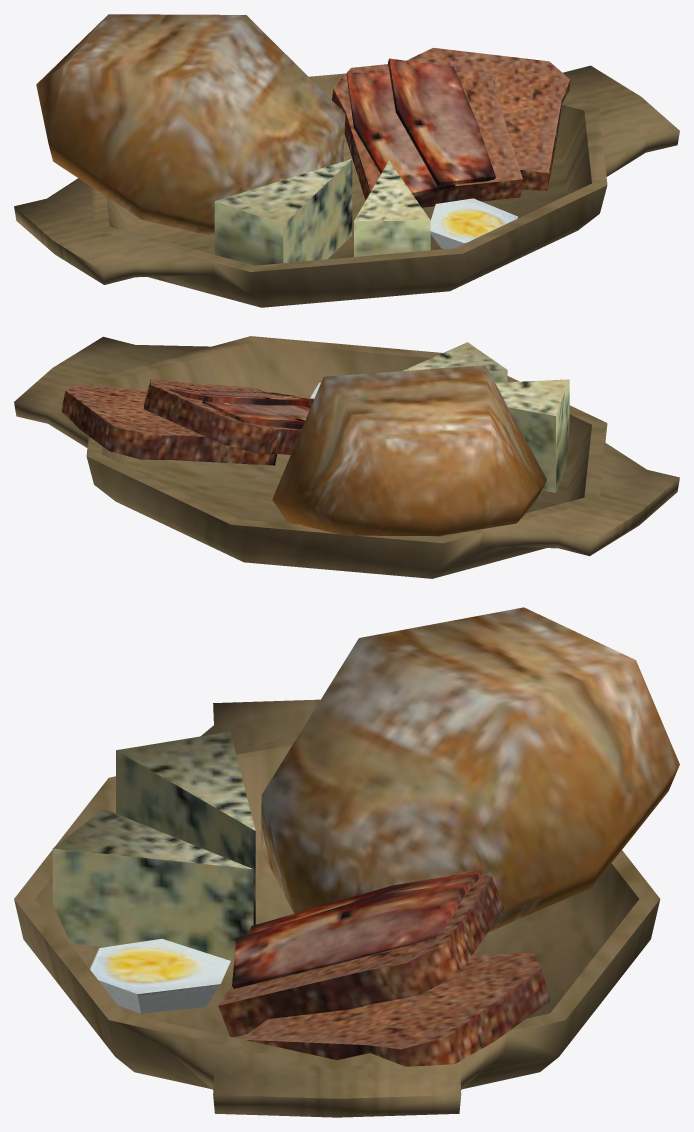
File: platter-meal02.glb
The picture shows the model from 3 angles, top to bottom: view 1: azimuth 30°, elevation 25°; view 2: azimuth 150°, elevation 25°; view 3: azimuth 270°, elevation 25°; orthographic projection. The views are drawn at different scales.
Parts seen in each view (by area): view 1: food-bread01.001, platter03, cheese, bacon.001, bread-slice.001, bread-slice, bacon, cheese.001, egg-half; view 2: platter03, food-bread01.001, bread-slice, bread-slice.001, cheese, bacon, bacon.001, cheese.001; view 3: food-bread01.001, platter03, cheese.001, bread-slice, bread-slice.001, cheese, bacon.001, egg-half, bacon.
Part boxes in pixels (bbox=[...]): food-bread01.001: bbox=[36, 14, 345, 236]; platter03: bbox=[14, 65, 679, 307]; cheese: bbox=[214, 159, 352, 265]; bacon.001: bbox=[388, 58, 495, 186]; bread-slice.001: bbox=[332, 56, 522, 207]; bread-slice: bbox=[407, 47, 570, 190]; bacon: bbox=[346, 72, 455, 196]; cheese.001: bbox=[354, 160, 430, 256]; egg-half: bbox=[430, 198, 517, 248]; platter03: bbox=[14, 336, 679, 578]; food-bread01.001: bbox=[272, 365, 546, 535]; bread-slice: bbox=[61, 384, 276, 465]; bread-slice.001: bbox=[144, 378, 301, 454]; cheese: bbox=[495, 379, 569, 492]; bacon: bbox=[202, 400, 311, 429]; bacon.001: bbox=[169, 389, 313, 405]; cheese.001: bbox=[403, 342, 507, 382]; food-bread01.001: bbox=[261, 607, 679, 932]; platter03: bbox=[14, 699, 660, 1117]; cheese.001: bbox=[52, 809, 253, 960]; bread-slice: bbox=[241, 953, 550, 1066]; bread-slice.001: bbox=[218, 870, 504, 1037]; cheese: bbox=[116, 731, 255, 925]; bacon.001: bbox=[232, 883, 468, 988]; egg-half: bbox=[90, 939, 230, 1013]; bacon: bbox=[249, 871, 482, 934].
Size of the model in its own units: 0.3912 by 0.1052 by 0.2755.
2 materials, 2 textured.
